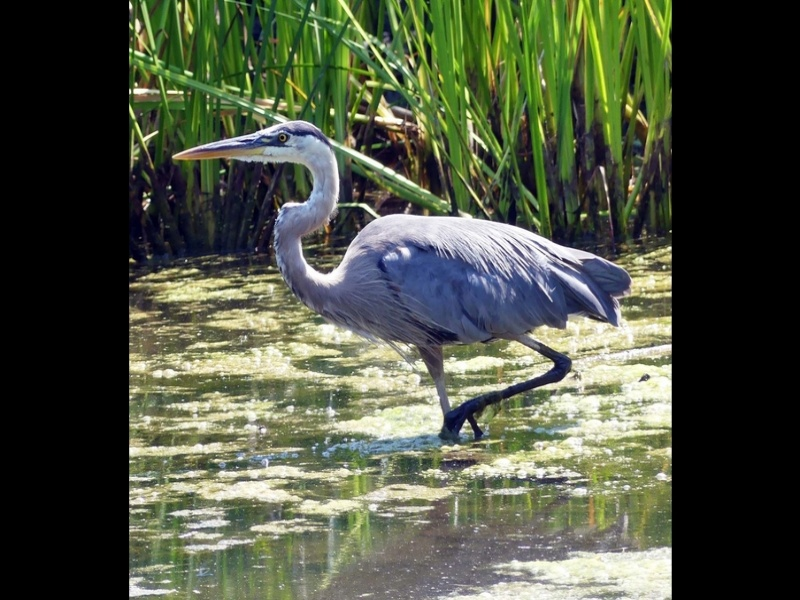heron: (169, 118, 631, 435)
